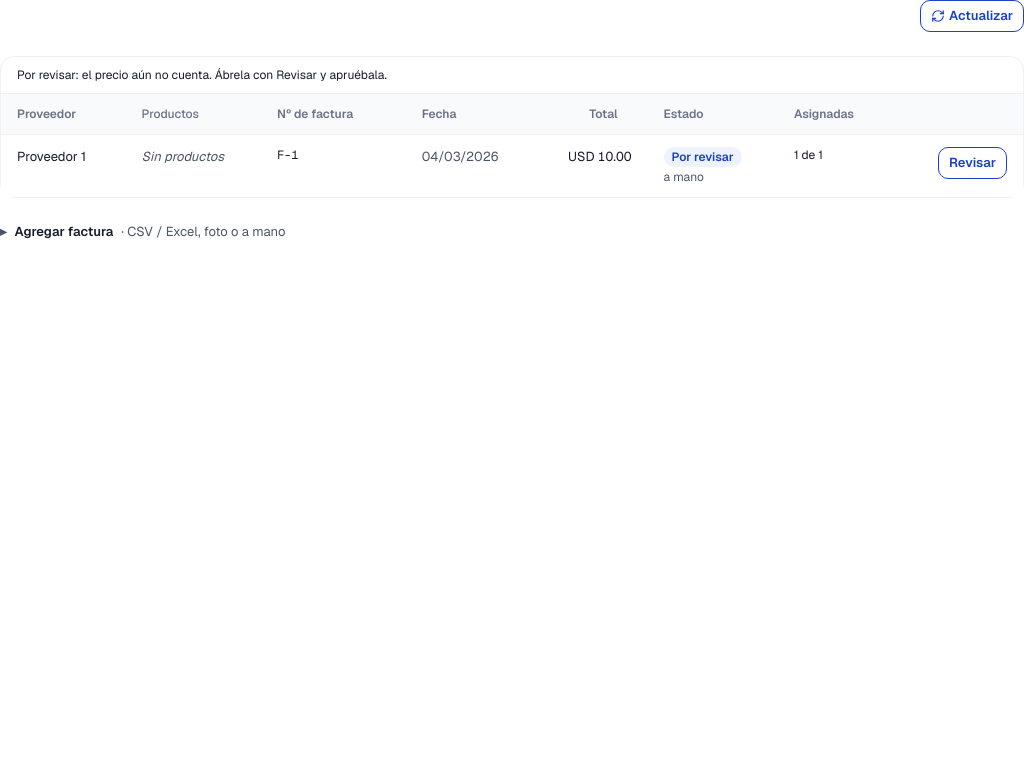
Test: Compras: Revisar panel Origen and Agregar línea › the Agregar línea form stays collapsed until «+ Agregar línea» is clicked
Click the button "Revisar" at (973, 163), box 938,147 -> 1007,179
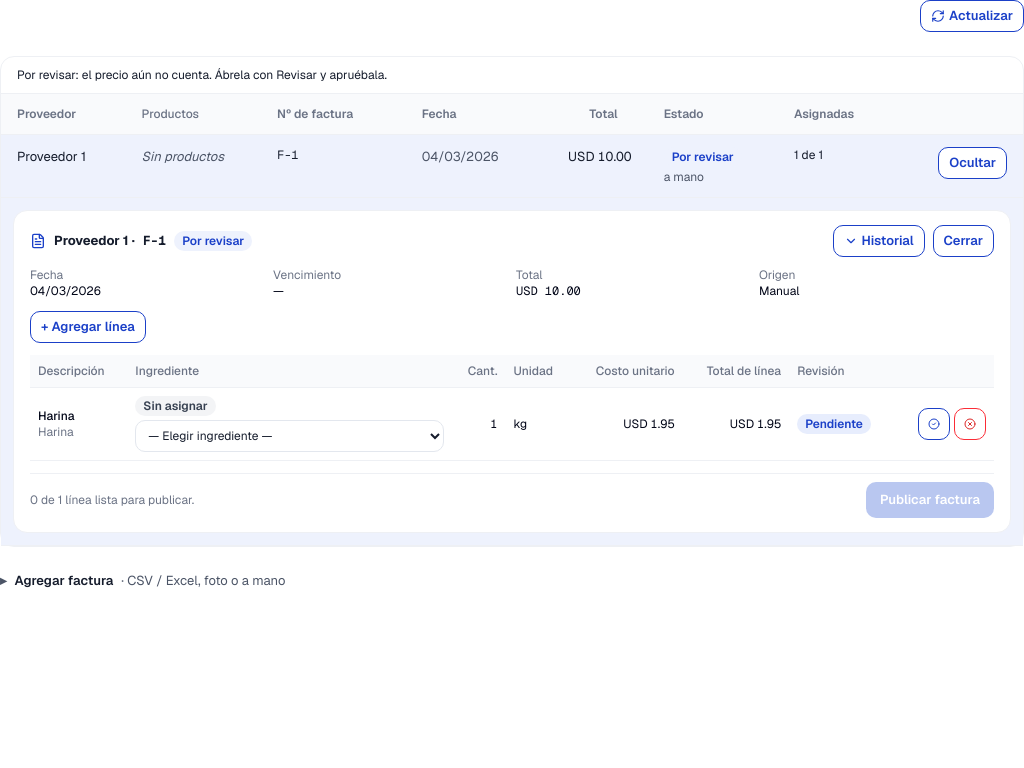
Check: the text "Descripción (texto de la línea" is not shown
Check: the button "Publicar factura" is shown, box 866,482 -> 994,518
Click the button "+ Agregar línea" at (88, 327), box 30,311 -> 146,343
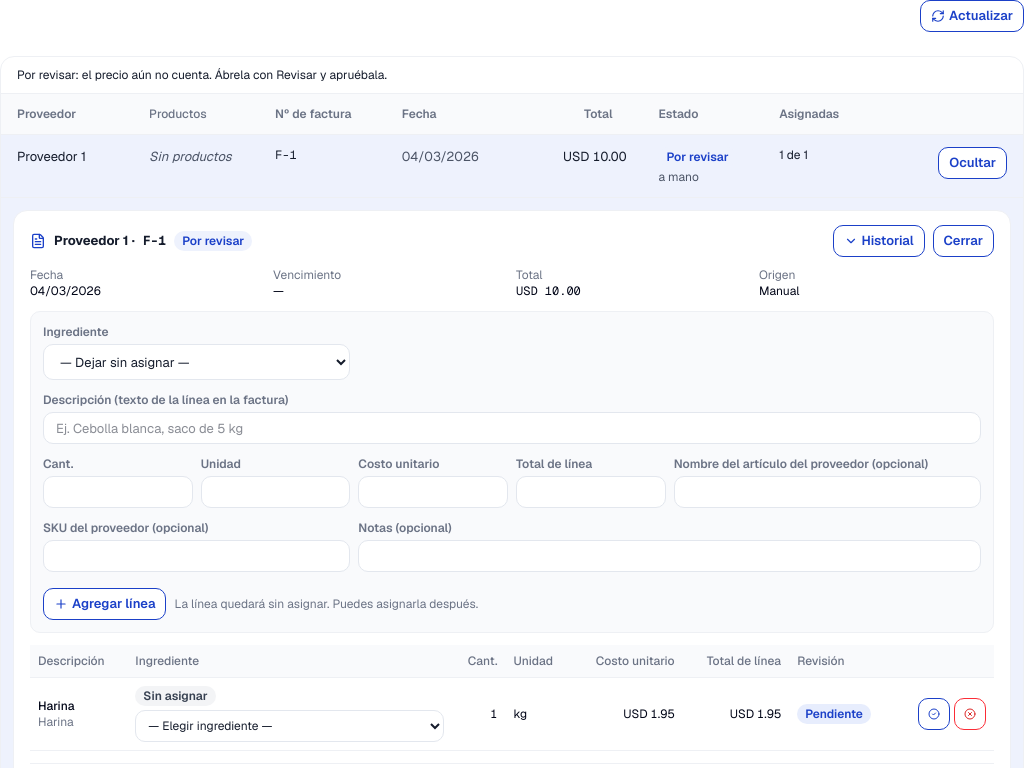
Check: the text "Descripción (texto de la línea en la factura)" is shown, box 43,392 -> 288,408
Check: the button "Agregar línea" is shown, box 43,588 -> 166,620
